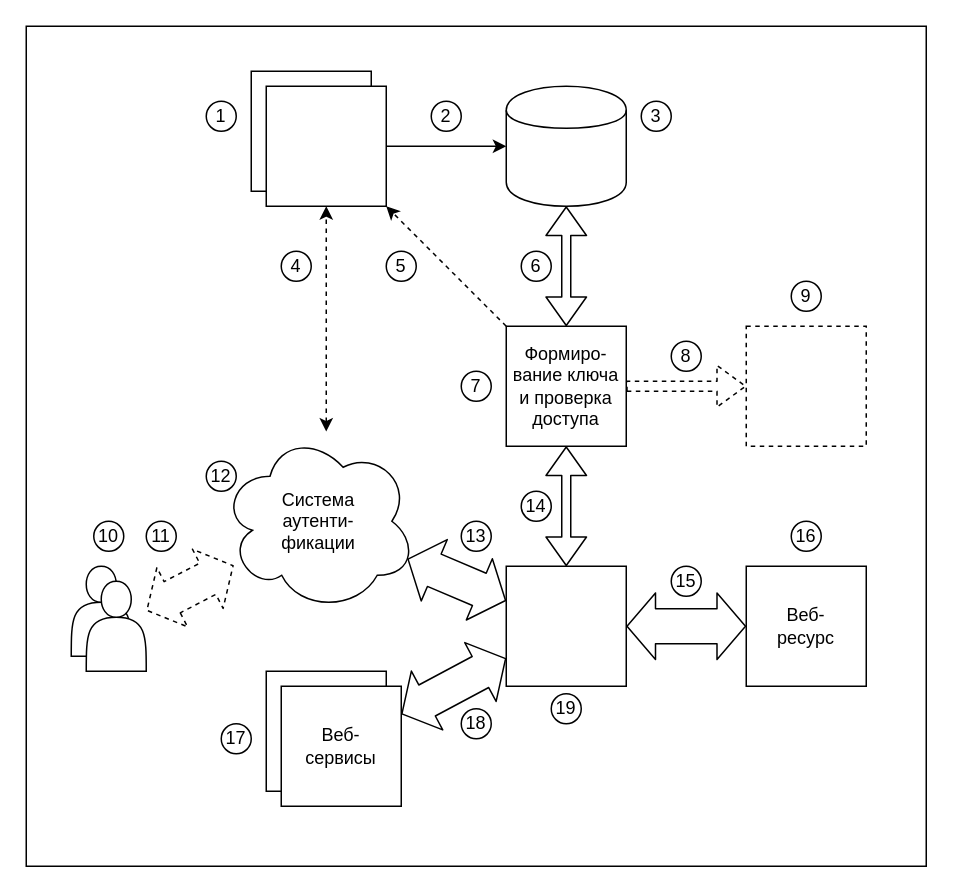
This 953x893 diagram has some shape labels left out. The centre of each missing label's shape, as x and y in pixels:
БД Ключ-значение: the point at 565,145
Прокси-сервер: the point at 565,625
Система журнали-рования: the point at 805,385
Система управления доступом: the point at 325,145
